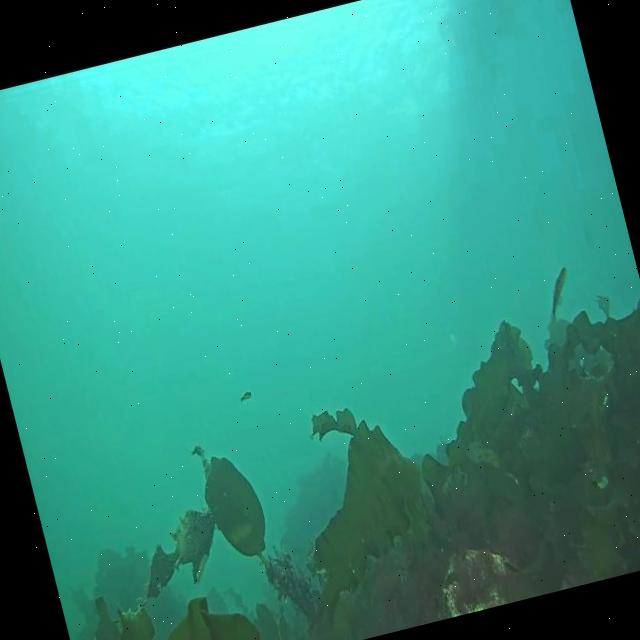fish: (540, 262, 580, 320), (237, 388, 253, 403)
